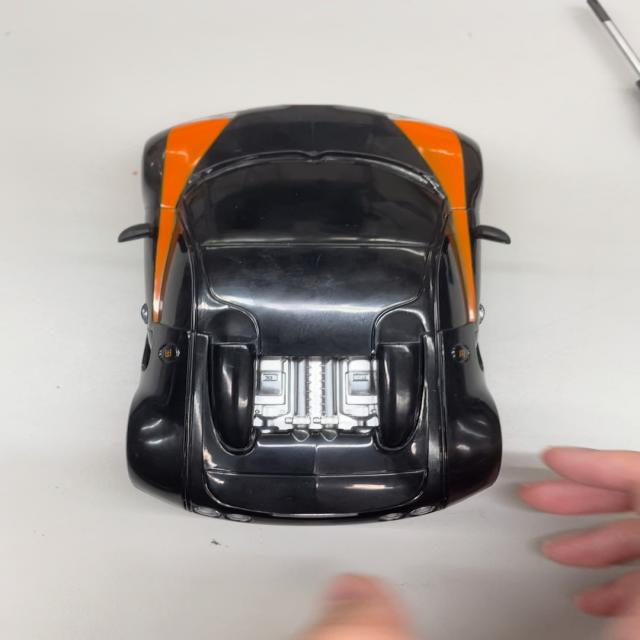vehicle_body: (119, 109, 508, 522)
